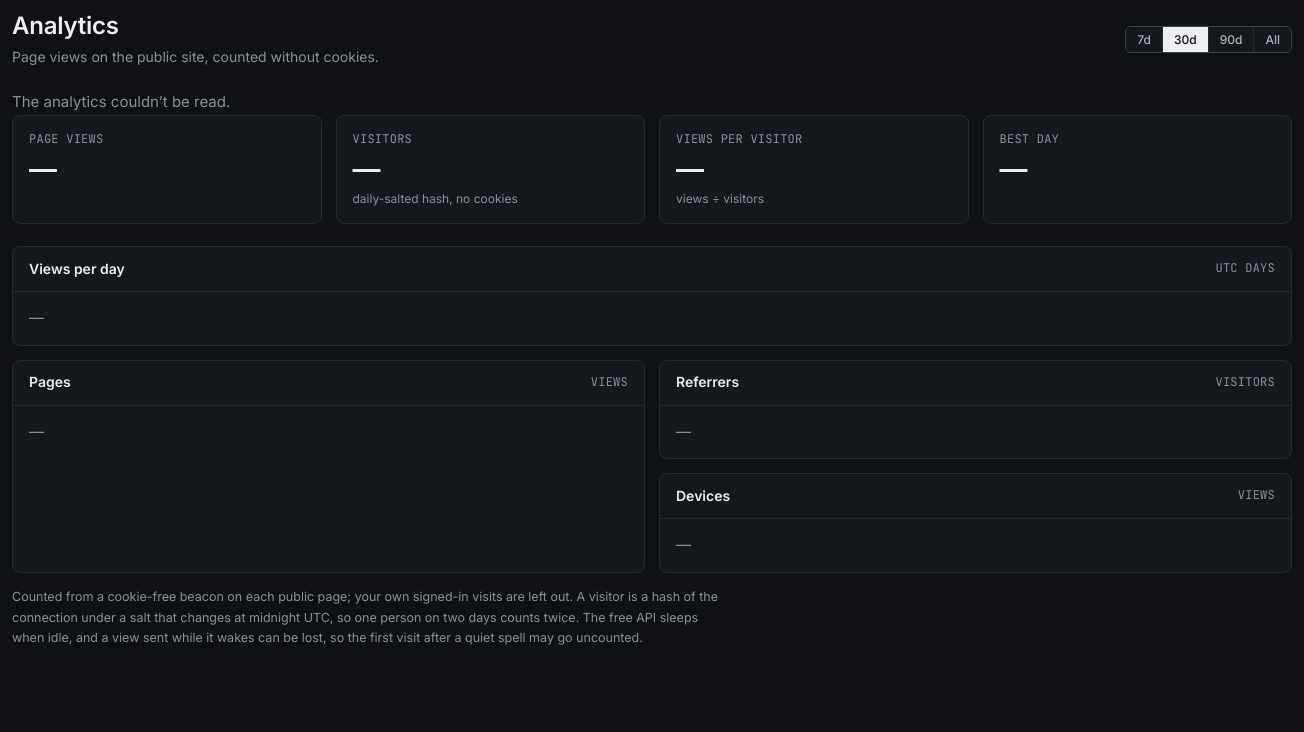
Test case: AdminAnalytics › says when the read fails, and when the session has ended
Expected: the message reads "The analytics couldn’t be read.", [12, 92, 230, 111]
Expected: the text "Page views" shows "—", [29, 152, 56, 186]
Click the button "7d". click: (1144, 40)
box: [1126, 27, 1162, 52]
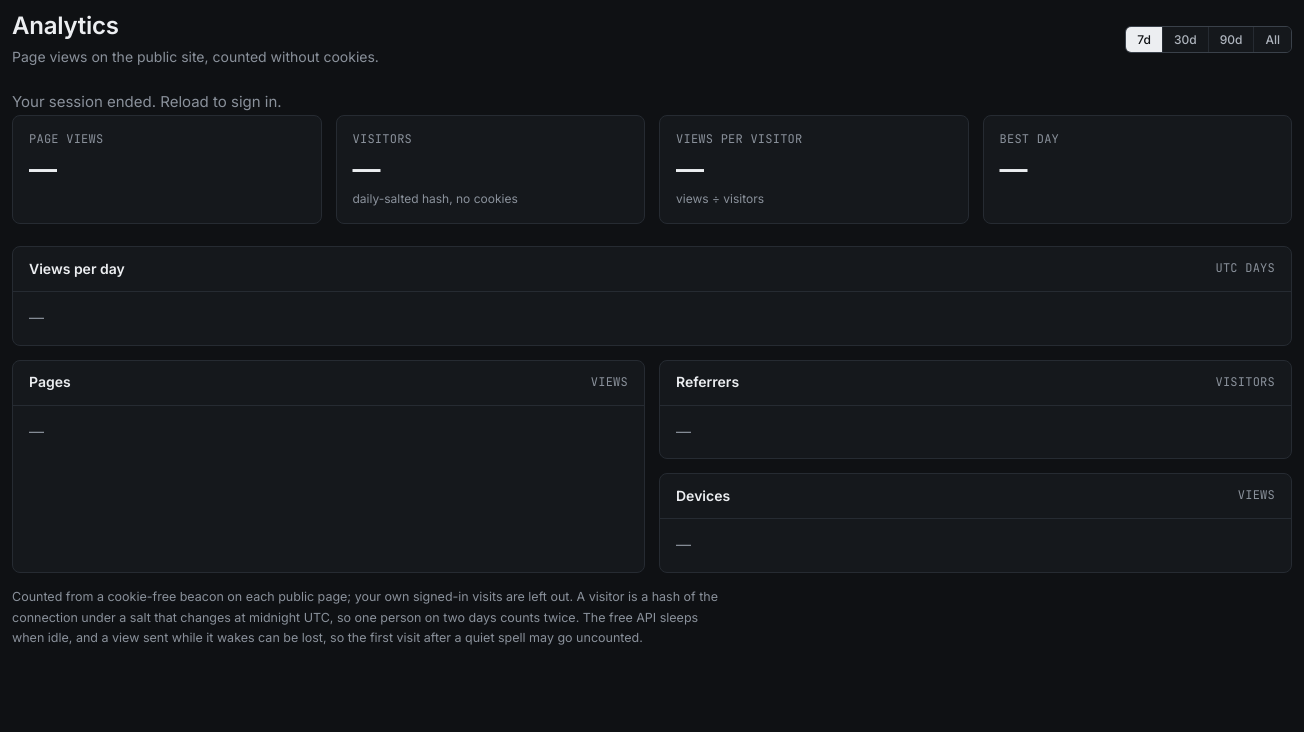
Now the message reads "Your session ended. Reload to sign in.", box [12, 92, 282, 111]
